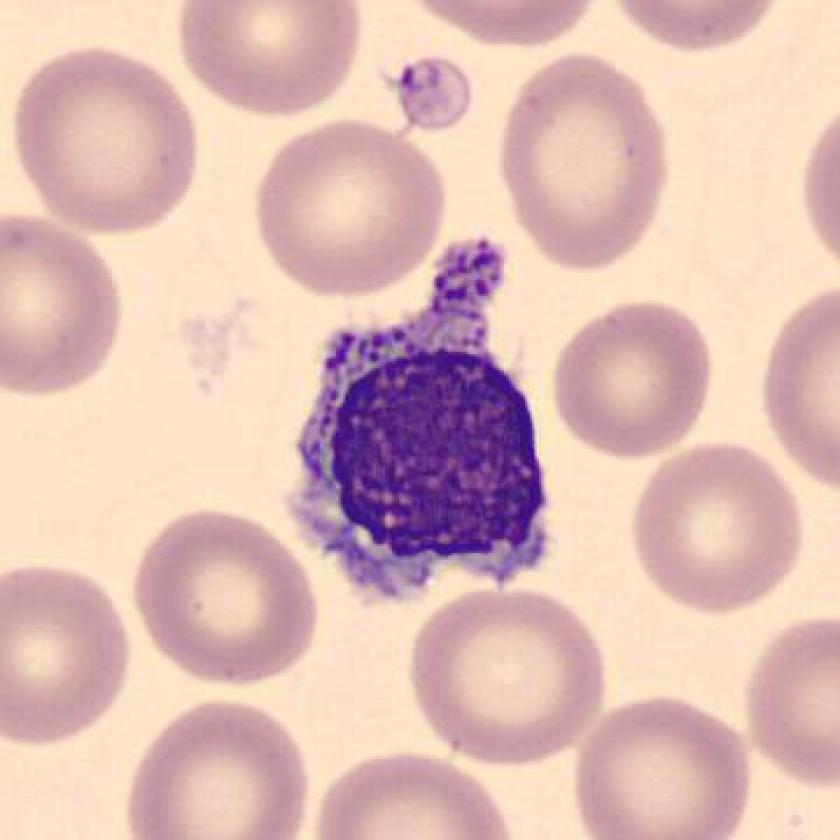lymphocyte: (274, 219, 563, 631)
platelets: (387, 54, 478, 137)
